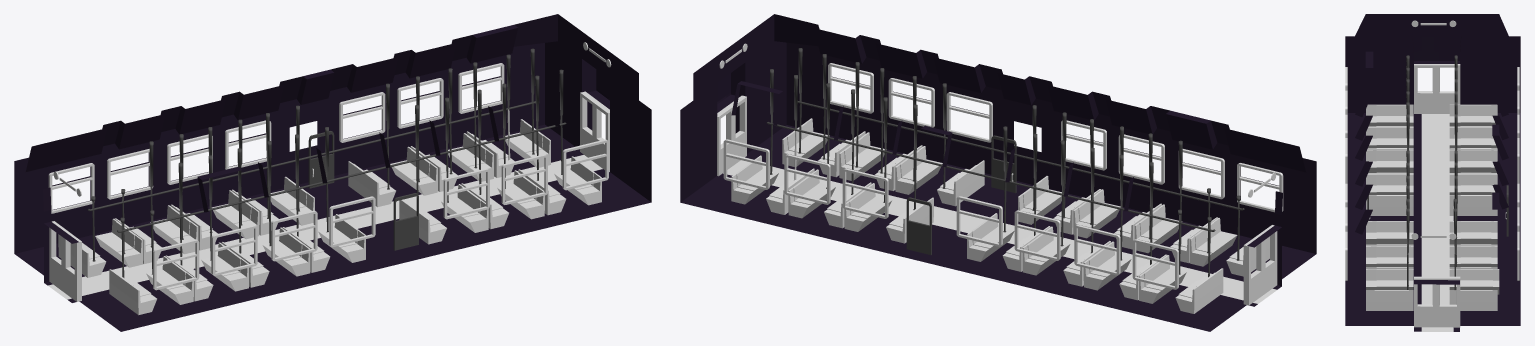
File: tren bagon_0.3 .fbx
3 renders of one model, left to right at view 1: azimuth 30°, elevation 25°; view 2: azimuth 150°, elevation 25°; view 3: azimuth 270°, elevation 25°, orthographic. The views are drawn at different scales.
Parts seen in each view (by area): view 1: BAGON.001, silla, ventana, VARILLA ARRIBA, varilla, barilla, PUERTA CENTRO, puerta centra final.001, puerta centra final; view 2: BAGON.001, silla, ventana, VARILLA ARRIBA, varilla, barilla, puerta centra final.001, PUERTA CENTRO, puerta centra final; view 3: BAGON.001, silla, puerta centra final, puerta centra final.001, VARILLA ARRIBA, ventana, luces, PUERTA CENTRO, varilla.
Boxes of the visible parts, left/top/right/bottom form: BAGON.001: left=14, top=14, right=651, bottom=331; silla: left=58, top=119, right=601, bottom=315; ventana: left=48, top=63, right=608, bottom=290; VARILLA ARRIBA: left=91, top=48, right=563, bottom=230; varilla: left=92, top=103, right=562, bottom=277; barilla: left=87, top=101, right=566, bottom=232; PUERTA CENTRO: left=308, top=131, right=418, bottom=250; puerta centra final.001: left=49, top=221, right=81, bottom=301; puerta centra final: left=580, top=91, right=609, bottom=171; BAGON.001: left=680, top=14, right=1316, bottom=331; silla: left=731, top=118, right=1269, bottom=313; ventana: left=723, top=63, right=1283, bottom=289; VARILLA ARRIBA: left=770, top=48, right=1240, bottom=230; varilla: left=770, top=103, right=1239, bottom=277; barilla: left=766, top=101, right=1244, bottom=231; puerta centra final.001: left=1243, top=225, right=1277, bottom=305; PUERTA CENTRO: left=906, top=135, right=1016, bottom=254; puerta centra final: left=717, top=95, right=746, bottom=176; BAGON.001: left=1345, top=14, right=1520, bottom=331; silla: left=1366, top=104, right=1499, bottom=310; puerta centra final: left=1414, top=276, right=1460, bottom=327; puerta centra final.001: left=1414, top=64, right=1460, bottom=113; VARILLA ARRIBA: left=1406, top=55, right=1457, bottom=252; ventana: left=1345, top=67, right=1519, bottom=280; luces: left=1411, top=20, right=1456, bottom=239; PUERTA CENTRO: left=1367, top=185, right=1508, bottom=236; varilla: left=1407, top=237, right=1457, bottom=290.
Size of the model in its own units: 2722 by 565 by 909.
